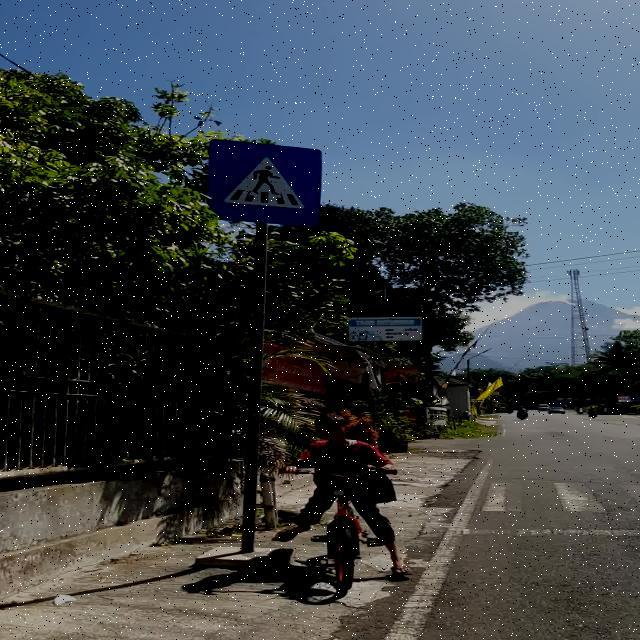Perintah Jalur Penyebrangan: (206, 138, 322, 228)
